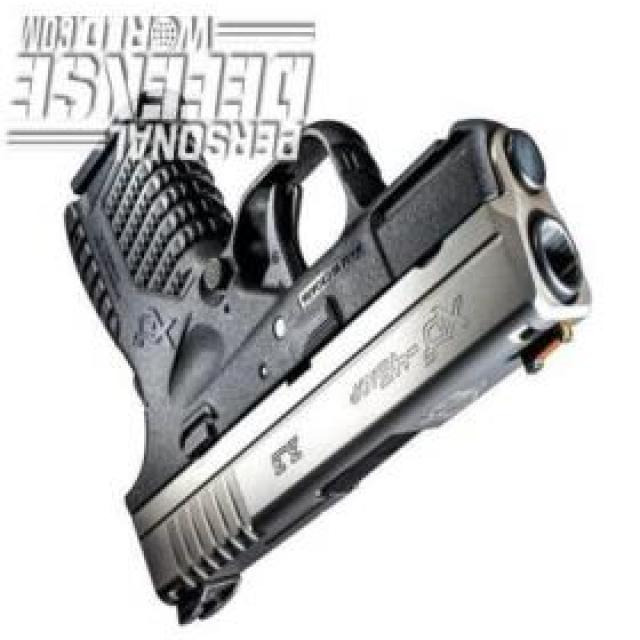pistol: (53, 99, 592, 626)
